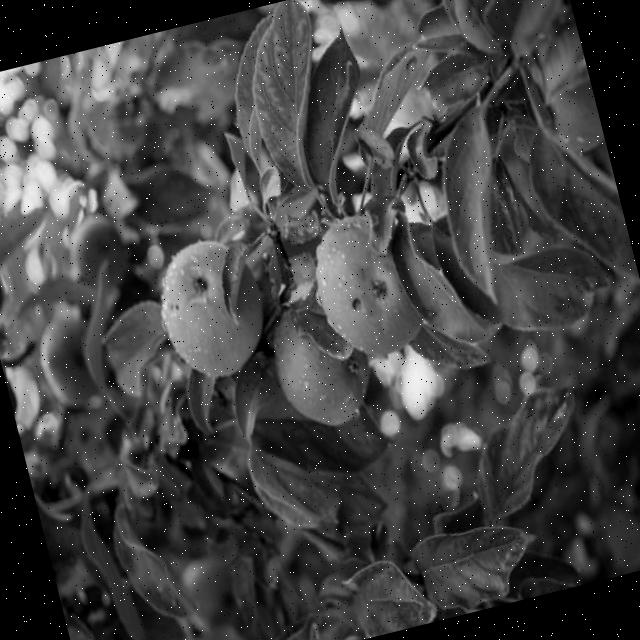Unripe: (296, 200, 428, 366), (144, 228, 280, 389)
